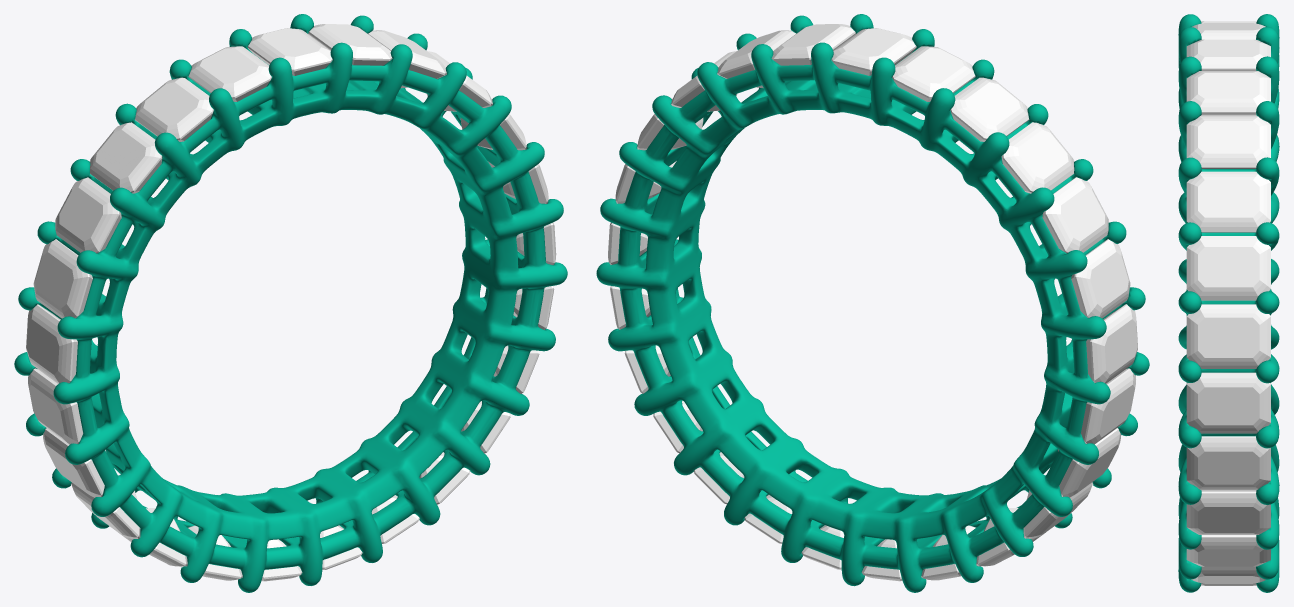
Rendered from BE2DRA300ELC_RENDER.glb.
The picture shows the model from 3 angles, left to right: view 1: azimuth 30°, elevation 25°; view 2: azimuth 150°, elevation 25°; view 3: azimuth 270°, elevation 25°; orthographic projection.
Parts seen in each view (by area): view 1: Metal03, Diamond_Emerald_Gem_BD.002, Diamond_Emerald_Gem_BD.003, Diamond_Emerald_Gem_BD.001, Diamond_Emerald_Gem_BD.004, Diamond_Emerald_Gem_BD.024, Diamond_Emerald_Gem_BD.005, Diamond_Emerald_Gem_BD, Diamond_Emerald_Gem_BD.006, Diamond_Emerald_Gem_BD.023, Diamond_Emerald_Gem_BD.007, Diamond_Emerald_Gem_BD.022 (+2 smaller); view 2: Metal03, Diamond_Emerald_Gem_BD.002, Diamond_Emerald_Gem_BD.003, Diamond_Emerald_Gem_BD.001, Diamond_Emerald_Gem_BD.004, Diamond_Emerald_Gem_BD.024, Diamond_Emerald_Gem_BD.005, Diamond_Emerald_Gem_BD, Diamond_Emerald_Gem_BD.006, Diamond_Emerald_Gem_BD.023, Diamond_Emerald_Gem_BD.007, Diamond_Emerald_Gem_BD.022 (+2 smaller); view 3: Metal03, Diamond_Emerald_Gem_BD.020, Diamond_Emerald_Gem_BD.019, Diamond_Emerald_Gem_BD.021, Diamond_Emerald_Gem_BD.018, Diamond_Emerald_Gem_BD.017, Diamond_Emerald_Gem_BD.022, Diamond_Emerald_Gem_BD.016, Diamond_Emerald_Gem_BD.023, Diamond_Emerald_Gem_BD.015, Diamond_Emerald_Gem_BD, Diamond_Emerald_Gem_BD.014 (+1 smaller).
Part boxes in pixels (left/top/right/bottom): Metal03: left=14, top=14, right=567, bottom=592; Diamond_Emerald_Gem_BD.002: left=90, top=122, right=162, bottom=193; Diamond_Emerald_Gem_BD.003: left=55, top=177, right=121, bottom=253; Diamond_Emerald_Gem_BD.001: left=135, top=77, right=213, bottom=141; Diamond_Emerald_Gem_BD.004: left=33, top=239, right=92, bottom=318; Diamond_Emerald_Gem_BD.024: left=188, top=46, right=271, bottom=101; Diamond_Emerald_Gem_BD.005: left=26, top=304, right=77, bottom=383; Diamond_Emerald_Gem_BD: left=247, top=28, right=332, bottom=75; Diamond_Emerald_Gem_BD.006: left=28, top=368, right=83, bottom=444; Diamond_Emerald_Gem_BD.023: left=308, top=24, right=392, bottom=65; Diamond_Emerald_Gem_BD.007: left=43, top=428, right=105, bottom=497; Diamond_Emerald_Gem_BD.022: left=368, top=30, right=446, bottom=88; Metal03: left=596, top=14, right=1149, bottom=592; Diamond_Emerald_Gem_BD.002: left=1001, top=122, right=1074, bottom=193; Diamond_Emerald_Gem_BD.003: left=1042, top=177, right=1108, bottom=253; Diamond_Emerald_Gem_BD.001: left=950, top=77, right=1029, bottom=141; Diamond_Emerald_Gem_BD.004: left=1071, top=239, right=1130, bottom=318; Diamond_Emerald_Gem_BD.024: left=892, top=46, right=975, bottom=101; Diamond_Emerald_Gem_BD.005: left=1086, top=304, right=1137, bottom=383; Diamond_Emerald_Gem_BD: left=831, top=28, right=916, bottom=75; Diamond_Emerald_Gem_BD.006: left=1081, top=368, right=1135, bottom=444; Diamond_Emerald_Gem_BD.023: left=771, top=24, right=855, bottom=65; Diamond_Emerald_Gem_BD.007: left=1058, top=428, right=1121, bottom=497; Diamond_Emerald_Gem_BD.022: left=717, top=30, right=796, bottom=88; Metal03: left=1178, top=14, right=1279, bottom=592; Diamond_Emerald_Gem_BD.020: left=1186, top=236, right=1270, bottom=300; Diamond_Emerald_Gem_BD.019: left=1186, top=304, right=1270, bottom=368; Diamond_Emerald_Gem_BD.021: left=1186, top=171, right=1270, bottom=232; Diamond_Emerald_Gem_BD.018: left=1186, top=372, right=1270, bottom=433; Diamond_Emerald_Gem_BD.017: left=1186, top=436, right=1270, bottom=490; Diamond_Emerald_Gem_BD.022: left=1186, top=115, right=1270, bottom=168; Diamond_Emerald_Gem_BD.016: left=1186, top=490, right=1270, bottom=534; Diamond_Emerald_Gem_BD.023: left=1186, top=71, right=1270, bottom=115; Diamond_Emerald_Gem_BD.015: left=1186, top=535, right=1270, bottom=566; Diamond_Emerald_Gem_BD: left=1186, top=39, right=1270, bottom=70; Diamond_Emerald_Gem_BD.014: left=1191, top=566, right=1265, bottom=583.
Size of the model in its own units: 22.29 by 22.26 by 3.89.
